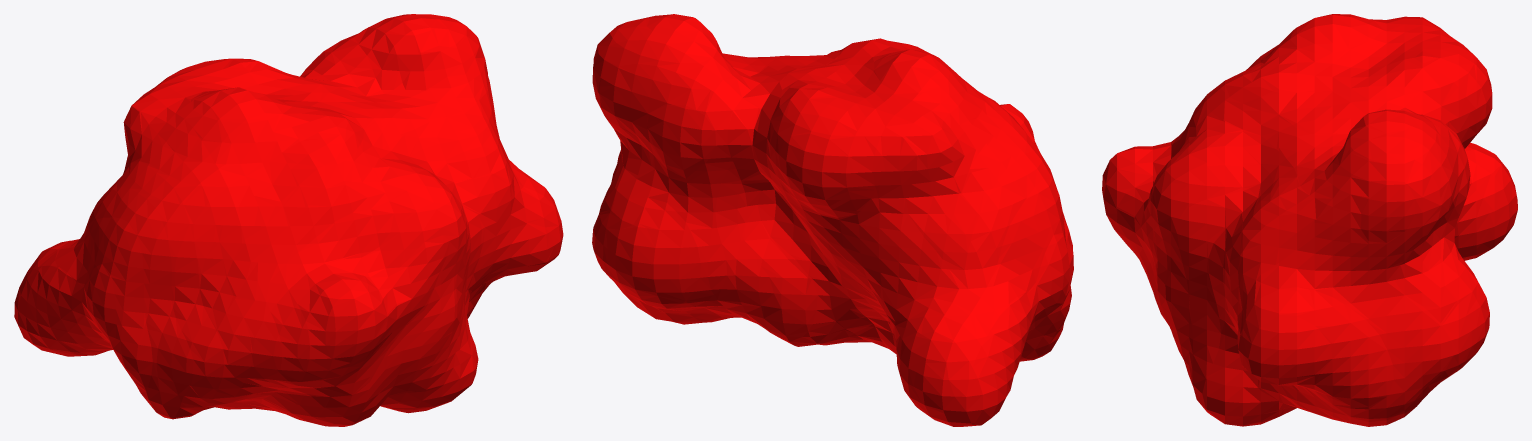
File: lolD_coarse.dae
3 views of the same model, side by side, from view 1: azimuth 30°, elevation 25°; view 2: azimuth 150°, elevation 25°; view 3: azimuth 270°, elevation 25° (orthographic). The views are drawn at different scales.
Parts seen in each view (by area): view 1: lolD; view 2: lolD; view 3: lolD.
Part boxes in pixels (bbox=[...]): lolD: bbox=[14, 14, 563, 426]; lolD: bbox=[592, 14, 1073, 426]; lolD: bbox=[1102, 14, 1517, 426].
Size of the model in its own units: 59.36 by 41.07 by 45.91.
